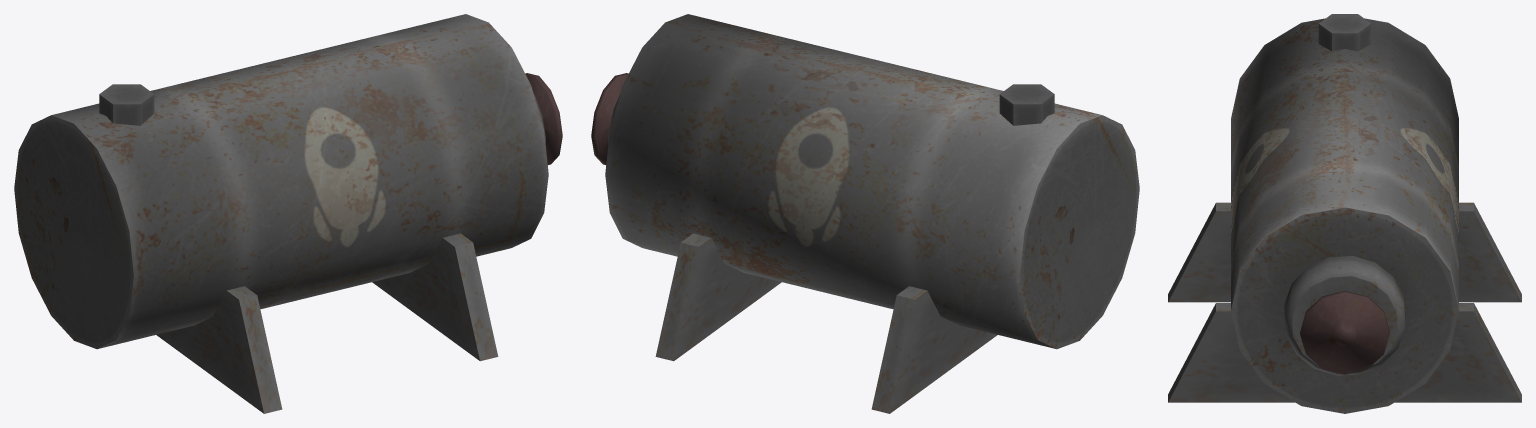
The model's file is varil_2.fbx.
3 renders of one model, left to right at view 1: azimuth 30°, elevation 25°; view 2: azimuth 150°, elevation 25°; view 3: azimuth 270°, elevation 25°, orthographic. The views are drawn at different scales.
Visible parts, largest first — view 1: Cylinder.001; view 2: Cylinder.001; view 3: Cylinder.001.
Part boxes in pixels (left/top/right/bottom): Cylinder.001: left=14, top=14, right=562, bottom=413; Cylinder.001: left=591, top=14, right=1139, bottom=413; Cylinder.001: left=1168, top=14, right=1521, bottom=413.
Size of the model in its own units: 455 by 242 by 310.
1 material, 1 textured.
